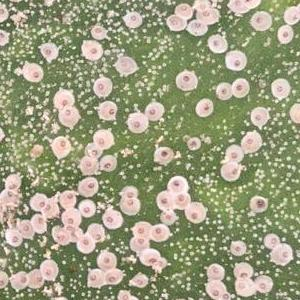Femea: (95, 99, 115, 118), (80, 42, 101, 59), (178, 72, 195, 90), (52, 92, 71, 108), (22, 64, 39, 81), (228, 52, 244, 70), (209, 37, 228, 52), (225, 145, 239, 164), (241, 134, 257, 150), (39, 46, 56, 61), (60, 107, 76, 120), (94, 80, 111, 92), (122, 14, 138, 26), (251, 15, 265, 28), (95, 25, 107, 39), (280, 25, 288, 41)
Linfa: (167, 237, 184, 251), (211, 217, 225, 233), (178, 280, 197, 291), (177, 255, 193, 266), (194, 232, 208, 244), (222, 201, 234, 215), (240, 217, 254, 229), (253, 166, 265, 180), (266, 137, 277, 152), (289, 225, 299, 241), (207, 240, 216, 257), (247, 222, 263, 231), (261, 216, 275, 226), (265, 160, 282, 168), (283, 163, 296, 173), (274, 145, 285, 155), (226, 218, 234, 228)
